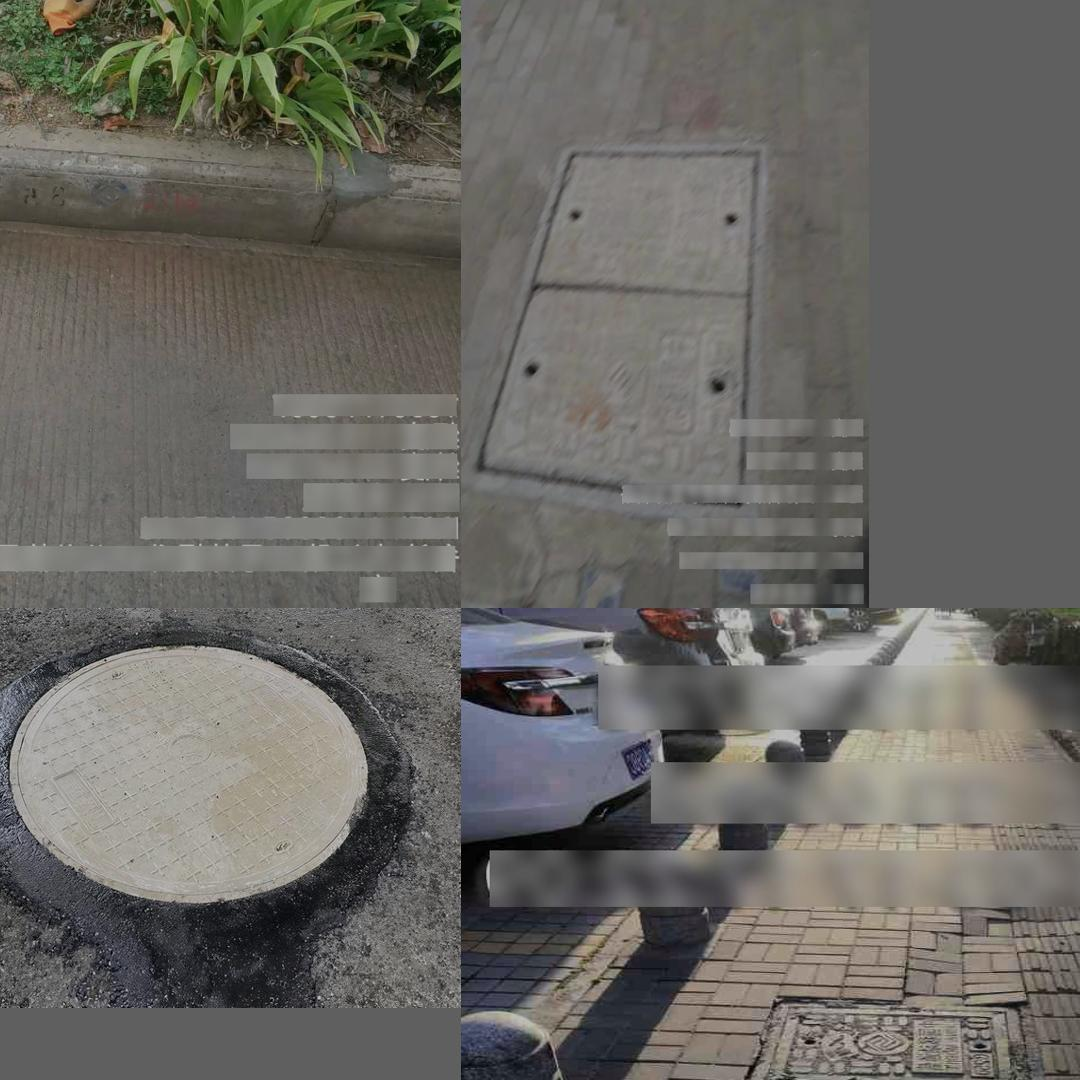good: (0, 621, 423, 965), (461, 140, 767, 524), (712, 1003, 1058, 1080)
